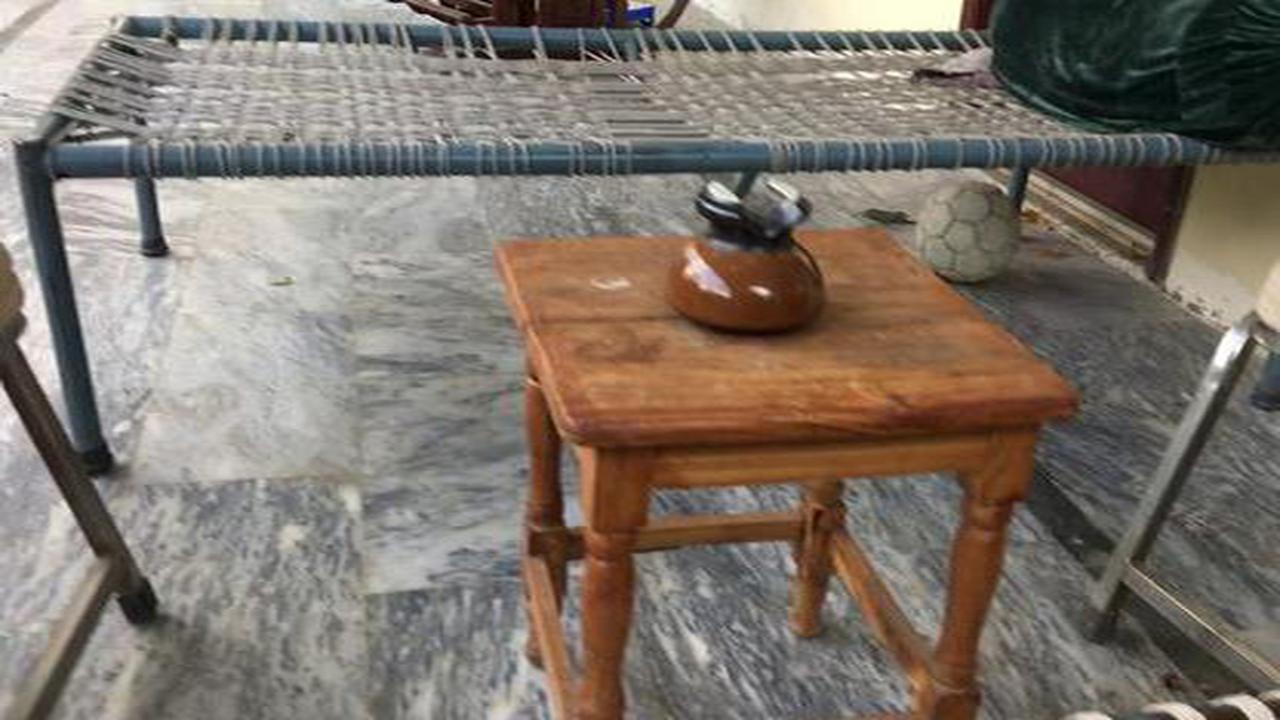insulator_pin: (637, 160, 856, 343)
